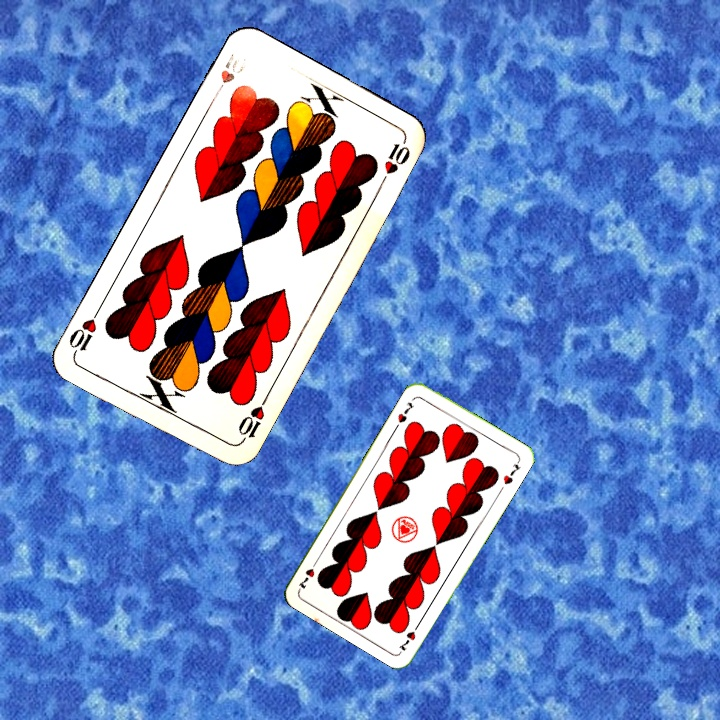H10: (209, 49, 250, 101), (233, 392, 270, 447)
H7: (395, 618, 423, 653), (393, 398, 417, 425)
